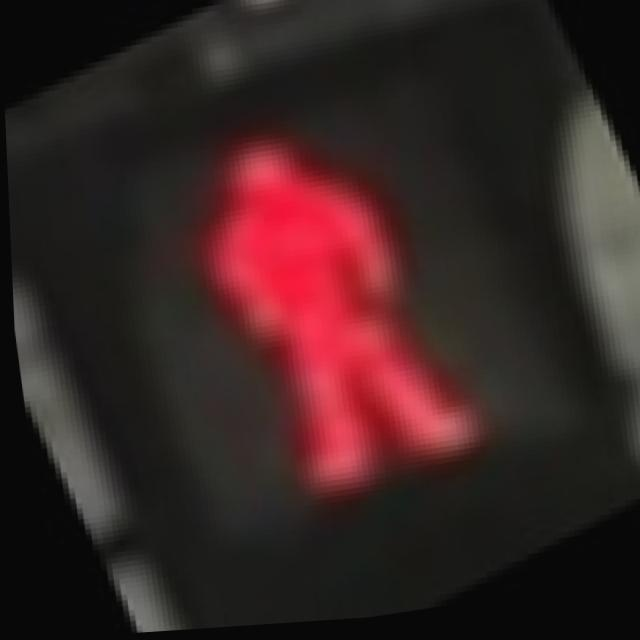red_light: (72, 14, 573, 579)
